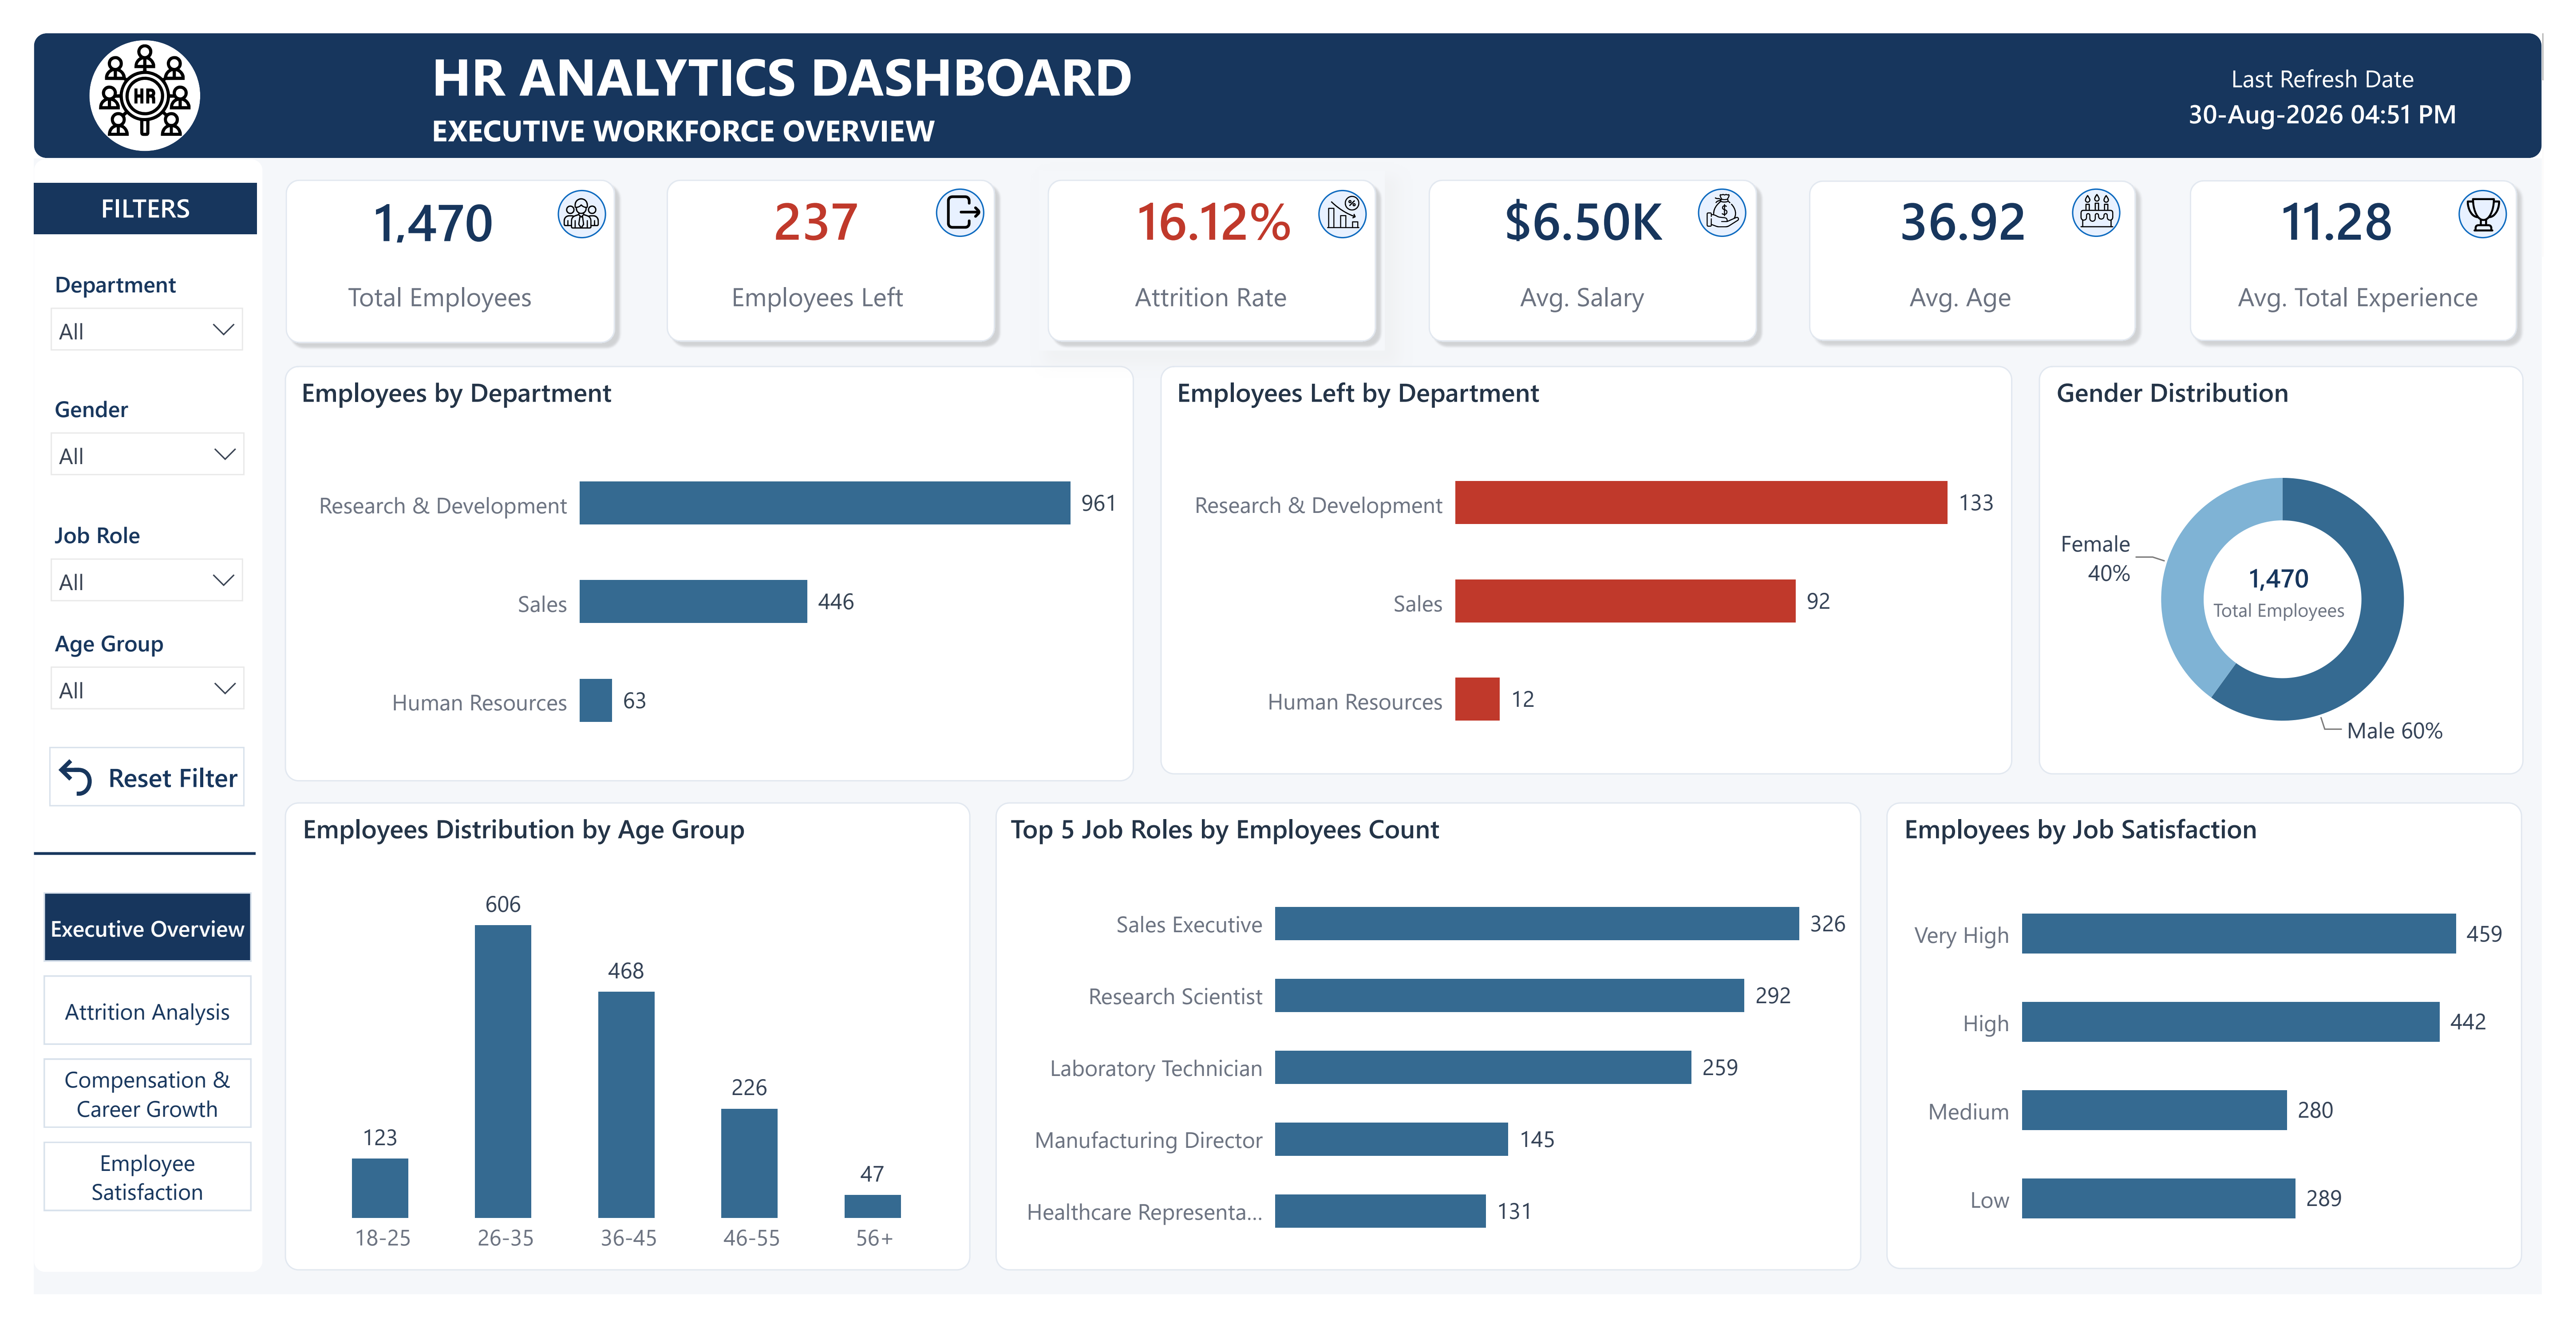

This screenshot's page, from the dashboard's own definition file:
{"tool":"powerbi","page":{"name":"Executive Overview","canvas":[1810,910],"ordinal":0},"visuals":[{"type":"shape","box":[0,0,1810,90],"z":0},{"type":"shape","box":[650.9,112.1,35,35],"z":0,"group":"g8"},{"type":"shape","box":[1201.1,112.1,35,35],"z":0,"group":"g10"},{"type":"shape","box":[1471.5,112.1,35,35],"z":0,"group":"g11"},{"type":"shape","box":[378.5,112.8,35,35],"z":0,"group":"g7"},{"type":"shape","box":[927.2,112.8,35,35],"z":0,"group":"g9"},{"type":"shape","box":[1750.4,112.8,35,35],"z":0,"group":"g12"},{"type":"image","box":[381.1,115.4,28,28],"z":1000,"group":"g7"},{"type":"image","box":[1206.9,115.6,24.5,24.5],"z":1000,"group":"g10"},{"type":"image","box":[1477.3,115.6,24.5,24.5],"z":1000,"group":"g11"},{"type":"image","box":[933,116.3,24.5,24.5],"z":1000,"group":"g9"},{"type":"image","box":[657.9,116.8,24.5,24.5],"z":1000,"group":"g8"},{"type":"image","box":[1756.2,118.6,24.5,24.5],"z":1000,"group":"g12"},{"type":"shape","box":[181,239.8,613.2,300.1],"z":1000},{"type":"clusteredBarChart","title":"Employees by Department","fields":{"Category":["hr_employees.department"],"Y":["_Measures.Total Employees"]},"box":[187.5,246.3,599.9,288.6],"z":2000},{"type":"shape","box":[181.4,555.5,495,337.6],"z":3000},{"type":"textbox","box":[281.7,0,575.7,60],"z":4000},{"type":"textbox","box":[281.7,50.4,386,38.3],"z":5000},{"type":"shape","box":[0,91.3,164.7,802.4],"z":6000},{"type":"shape","box":[175,98.8,250.6,131.2],"z":6000,"group":"g1"},{"type":"shape","box":[1549.2,98.9,250,130],"z":7000,"group":"g6"},{"type":"slicer","fields":{"Values":["hr_employees.department"]},"box":[1.6,164.7,159.8,89.7],"z":7000},{"type":"shape","box":[450.4,98.9,250,130],"z":8000,"group":"g2"},{"type":"slicer","fields":{"Values":["hr_employees.gender"]},"box":[1.6,255.4,160,90],"z":8000},{"type":"shape","box":[725.3,98.9,250,130],"z":9000,"group":"g3"},{"type":"slicer","fields":{"Values":["hr_employees.Age Group"]},"box":[1.6,424,160,90],"z":9000},{"type":"shape","box":[1000.1,98.6,249.5,130.5],"z":10000,"group":"g4"},{"type":"slicer","fields":{"Values":["hr_employees.job_role"]},"box":[1.6,346.4,159.8,76.6],"z":10000},{"type":"cardVisual","fields":{"Data":["_Measures.Last Refresh Date"]},"box":[1503.6,0,306.6,89.7],"z":11000},{"type":"shape","box":[1274.4,98.9,250,130],"z":11000,"group":"g5"},{"type":"cardVisual","fields":{"Data":["_Measures.Total Employees"]},"box":[209.2,97.6,159.8,70],"z":12000,"group":"g1"},{"type":"shape","box":[1446.6,239.8,350,295],"z":12000},{"type":"group","id":"g1","title":"Group 1","box":[175,97.6,250.6,132.4],"z":13000},{"type":"textbox","box":[209.2,172,168,40.8],"z":13000,"group":"g1"},{"type":"group","id":"g2","title":"Group 2","box":[450.4,97.1,250,131.8],"z":14000},{"type":"cardVisual","fields":{"Data":["_Measures.Employee Left"]},"box":[483.4,97.1,163.1,70],"z":14000,"group":"g2"},{"type":"group","id":"g3","title":"Group 3","box":[725.3,97.1,250,131.8],"z":15000},{"type":"textbox","box":[492.8,172.3,146.8,39.1],"z":15000,"group":"g2"},{"type":"cardVisual","fields":{"Data":["_Measures.Attrition Rate"]},"box":[751.4,97.1,203.9,70.1],"z":16000,"group":"g3"},{"type":"group","id":"g4","title":"Group 4","box":[1000.1,97.1,249.5,132],"z":16000},{"type":"group","id":"g5","title":"Group 5","box":[1274.4,97.1,250,131.8],"z":17000},{"type":"textbox","box":[782.4,172.1,135.4,39.1],"z":17000,"group":"g3"},{"type":"cardVisual","fields":{"Data":["_Measures.Average Salary"]},"box":[1007,97.1,222.6,70],"z":18000,"group":"g4"},{"type":"group","id":"g6","title":"Group 6","box":[1549.2,97.1,250,131.8],"z":18000},{"type":"textbox","box":[1039.5,171.9,156.7,40],"z":19000,"group":"g4"},{"type":"shape","box":[813,239.8,614.8,295.2],"z":19000},{"type":"cardVisual","fields":{"Data":["_Measures.Average Age"]},"box":[1316.5,97.1,153,70],"z":20000,"group":"g5"},{"type":"shape","box":[1337.4,555.5,459,337],"z":20000},{"type":"group","id":"g7","title":"Group 13","box":[378.5,112.8,35,35],"z":21000},{"type":"textbox","box":[1319.3,171.9,143.3,40],"z":21000,"group":"g5"},{"type":"cardVisual","fields":{"Data":["_Measures.Average Experience Years"]},"box":[1585.7,97.1,153,70],"z":22000,"group":"g6"},{"type":"clusteredBarChart","title":"Employees Left by Department","fields":{"Y":["_Measures.Employee Left"],"Category":["hr_employees.department"]},"box":[820.3,246.3,599.9,288],"z":22000},{"type":"group","id":"g8","title":"Group 13","box":[650.9,112.1,35,35],"z":23000},{"type":"textbox","box":[1570.4,172.1,215.3,39.1],"z":23000,"group":"g6"},{"type":"group","id":"g9","title":"Group 13","box":[927.2,112.8,35,35],"z":24000},{"type":"donutChart","title":"Gender Distribution","fields":{"Category":["hr_employees.gender"],"Y":["_Measures.Total Employees"]},"box":[1454.7,246.3,335.9,288.7],"z":25000},{"type":"group","id":"g10","title":"Group 13","box":[1201.1,112.1,35,35],"z":26000},{"type":"shape","box":[694.4,555.5,625,337.3],"z":27000},{"type":"group","id":"g11","title":"Group 13","box":[1471.5,112.1,35,35],"z":28000},{"type":"group","id":"g12","title":"Group 13","box":[1750.4,112.8,35,35],"z":29000},{"type":"textbox","box":[0,107.6,161.5,37.5],"z":30000},{"type":"clusteredColumnChart","title":"Employees Distribution by Age Group","fields":{"Category":["hr_employees.Age Group"],"Y":["_Measures.Total Employees"]},"box":[189.2,561,481.1,329.4],"z":31000},{"type":"clusteredBarChart","title":"Employees by Job Satisfaction","fields":{"Y":["_Measures.Total Employees"],"Category":["hr_employees.Job Satisfaction Level"]},"box":[1345.4,561,442,327.8],"z":32000},{"type":"clusteredBarChart","title":"Top 5 Job Roles by Employees Count","fields":{"Category":["hr_employees.job_role"],"Y":["_Measures.Total Employees"]},"box":[699.6,561,613.2,329.4],"z":33000},{"type":"shape","box":[0,585.5,159.8,13],"z":34000},{"type":"pageNavigator","box":[6.5,619.7,150,231.6],"z":35000},{"type":"cardVisual","fields":{"Data":["_Measures.Total Employees"]},"box":[1533.5,363.4,173.9,78.2],"z":36000},{"type":"actionButton","box":[11.4,515.3,140.3,42.4],"z":37000},{"type":"shape","box":[40.4,5,80,80],"z":38000},{"type":"image","box":[47.1,8.4,65.6,65.6],"z":39000}]}

Visuals, with their boxes on the page's 1810x910 design canvas (x1, y1, x2, y2). These are canvas units, not pixel positions in the 2576x1328 screenshot, which may show the page scaled, cropped or inside an application window:
shape: bbox=(0, 0, 1810, 90)
shape: bbox=(651, 112, 686, 147)
shape: bbox=(1201, 112, 1236, 147)
shape: bbox=(1472, 112, 1506, 147)
shape: bbox=(378, 113, 414, 148)
shape: bbox=(927, 113, 962, 148)
shape: bbox=(1750, 113, 1785, 148)
image: bbox=(381, 115, 409, 143)
image: bbox=(1207, 116, 1231, 140)
image: bbox=(1477, 116, 1502, 140)
image: bbox=(933, 116, 958, 141)
image: bbox=(658, 117, 682, 141)
image: bbox=(1756, 119, 1781, 143)
shape: bbox=(181, 240, 794, 540)
"Employees by Department" clusteredBarChart: bbox=(188, 246, 787, 535)
shape: bbox=(181, 556, 676, 893)
textbox: bbox=(282, 0, 857, 60)
textbox: bbox=(282, 50, 668, 89)
shape: bbox=(0, 91, 165, 894)
shape: bbox=(175, 99, 426, 230)
shape: bbox=(1549, 99, 1799, 229)
slicer - hr_employees.department: bbox=(2, 165, 161, 254)
shape: bbox=(450, 99, 700, 229)
slicer - hr_employees.gender: bbox=(2, 255, 162, 345)
shape: bbox=(725, 99, 975, 229)
slicer - hr_employees.Age Group: bbox=(2, 424, 162, 514)
shape: bbox=(1000, 99, 1250, 229)
slicer - hr_employees.job_role: bbox=(2, 346, 161, 423)
cardVisual - _Measures.Last Refresh Date: bbox=(1504, 0, 1810, 90)
shape: bbox=(1274, 99, 1524, 229)
cardVisual - _Measures.Total Employees: bbox=(209, 98, 369, 168)
shape: bbox=(1447, 240, 1797, 535)
"Group 1" group: bbox=(175, 98, 426, 230)
textbox: bbox=(209, 172, 377, 213)
"Group 2" group: bbox=(450, 97, 700, 229)
cardVisual - _Measures.Employee Left: bbox=(483, 97, 646, 167)
"Group 3" group: bbox=(725, 97, 975, 229)
textbox: bbox=(493, 172, 640, 211)
cardVisual - _Measures.Attrition Rate: bbox=(751, 97, 955, 167)
"Group 4" group: bbox=(1000, 97, 1250, 229)
"Group 5" group: bbox=(1274, 97, 1524, 229)
textbox: bbox=(782, 172, 918, 211)
cardVisual - _Measures.Average Salary: bbox=(1007, 97, 1230, 167)
"Group 6" group: bbox=(1549, 97, 1799, 229)
textbox: bbox=(1040, 172, 1196, 212)
shape: bbox=(813, 240, 1428, 535)
cardVisual - _Measures.Average Age: bbox=(1316, 97, 1470, 167)
shape: bbox=(1337, 556, 1796, 892)
"Group 13" group: bbox=(378, 113, 414, 148)
textbox: bbox=(1319, 172, 1463, 212)
cardVisual - _Measures.Average Experience Years: bbox=(1586, 97, 1739, 167)
"Employees Left by Department" clusteredBarChart: bbox=(820, 246, 1420, 534)
"Group 13" group: bbox=(651, 112, 686, 147)
textbox: bbox=(1570, 172, 1786, 211)
"Group 13" group: bbox=(927, 113, 962, 148)
"Gender Distribution" donutChart: bbox=(1455, 246, 1791, 535)
"Group 13" group: bbox=(1201, 112, 1236, 147)
shape: bbox=(694, 556, 1319, 893)
"Group 13" group: bbox=(1472, 112, 1506, 147)
"Group 13" group: bbox=(1750, 113, 1785, 148)
textbox: bbox=(0, 108, 162, 145)
"Employees Distribution by Age Group" clusteredColumnChart: bbox=(189, 561, 670, 890)
"Employees by Job Satisfaction" clusteredBarChart: bbox=(1345, 561, 1787, 889)
"Top 5 Job Roles by Employees Count" clusteredBarChart: bbox=(700, 561, 1313, 890)
shape: bbox=(0, 586, 160, 598)
pageNavigator: bbox=(6, 620, 156, 851)
cardVisual - _Measures.Total Employees: bbox=(1534, 363, 1707, 442)
actionButton: bbox=(11, 515, 152, 558)
shape: bbox=(40, 5, 120, 85)
image: bbox=(47, 8, 113, 74)
